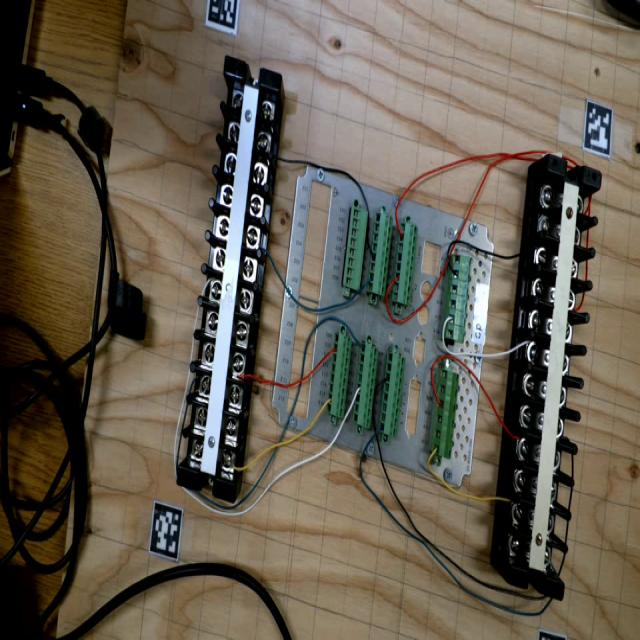Flathead_Block: (509, 155, 602, 601)
Phillips_Block: (175, 56, 284, 503)
Terminal_1: (430, 368, 460, 459), (444, 254, 472, 343)
Terminal_2: (378, 351, 406, 436), (352, 342, 379, 429), (326, 332, 353, 418), (392, 221, 419, 306), (367, 211, 393, 296)
